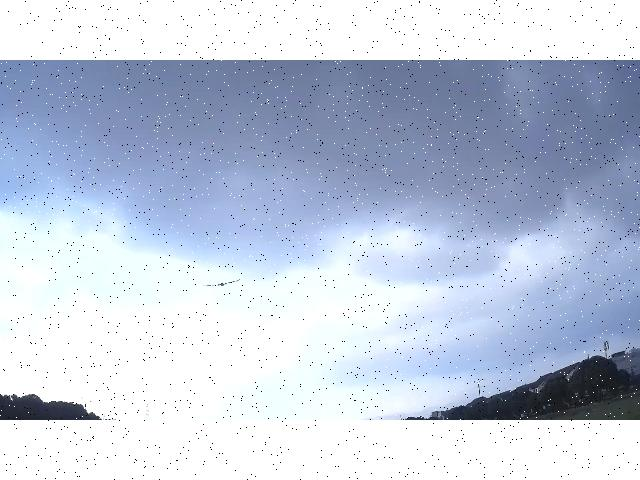Anti-Drone: (204, 280, 240, 286)
